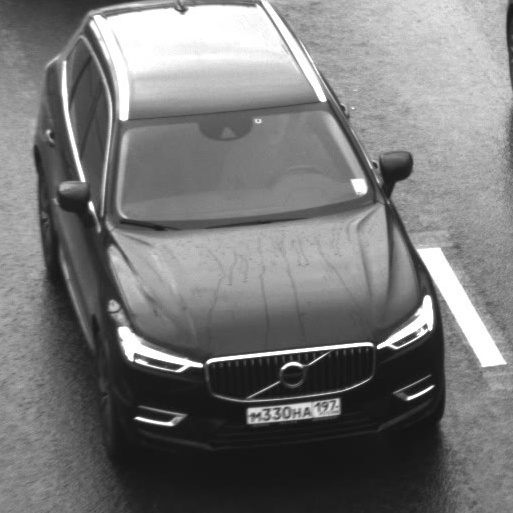plate: (235, 385, 350, 430)
